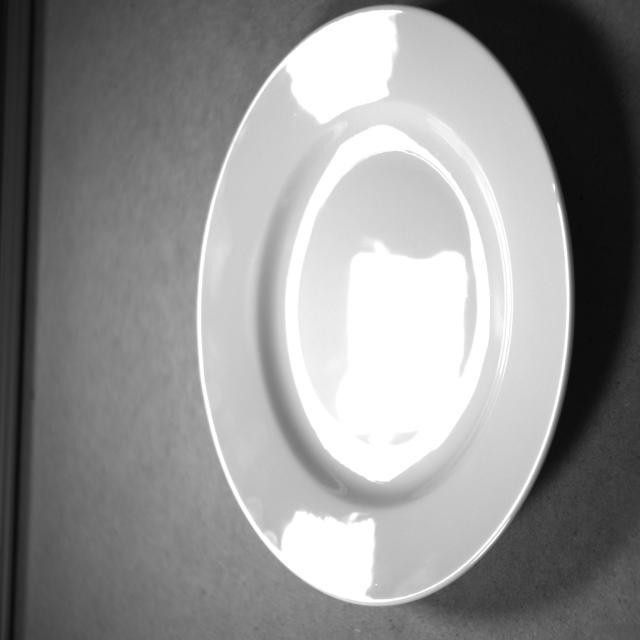plate: (198, 6, 571, 605)
